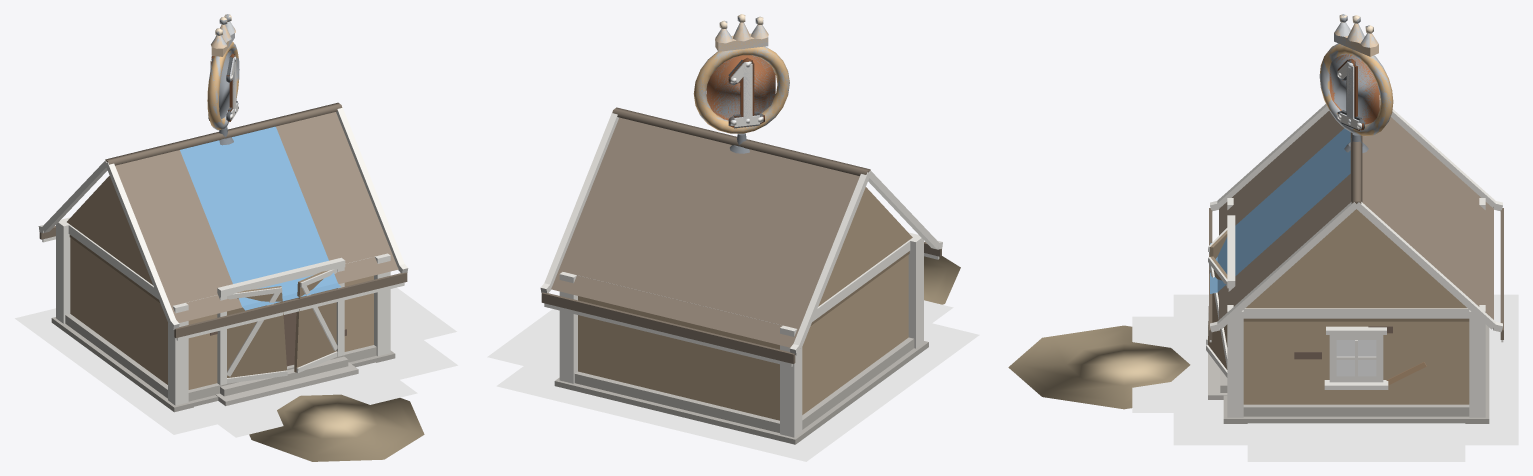
The model's file is barn_broken.glb.
The picture shows the model from 3 angles, left to right: view 1: azimuth 30°, elevation 25°; view 2: azimuth 150°, elevation 25°; view 3: azimuth 270°, elevation 25°; orthographic projection. The views are drawn at different scales.
Parts seen in each view (by area): view 1: body2, barn_broken, spin_60_0, body; view 2: body2, barn_broken, spin_60_0, body; view 3: body2, barn_broken, spin_60_0, body.
Boxes of the visible parts, left/top/right/bottom form: body2: left=38, top=102, right=424, bottom=461; barn_broken: left=15, top=287, right=457, bottom=437; spin_60_0: left=207, top=14, right=238, bottom=129; body: left=208, top=14, right=239, bottom=130; body2: left=540, top=107, right=960, bottom=444; barn_broken: left=487, top=300, right=979, bottom=461; spin_60_0: left=693, top=14, right=789, bottom=133; body: left=696, top=16, right=789, bottom=133; body2: left=1008, top=97, right=1503, bottom=423; barn_broken: left=1132, top=294, right=1518, bottom=461; spin_60_0: left=1320, top=14, right=1393, bottom=136; body: left=1319, top=14, right=1391, bottom=135.
Size of the model in its own units: 2.89 by 2.85 by 3.71.
